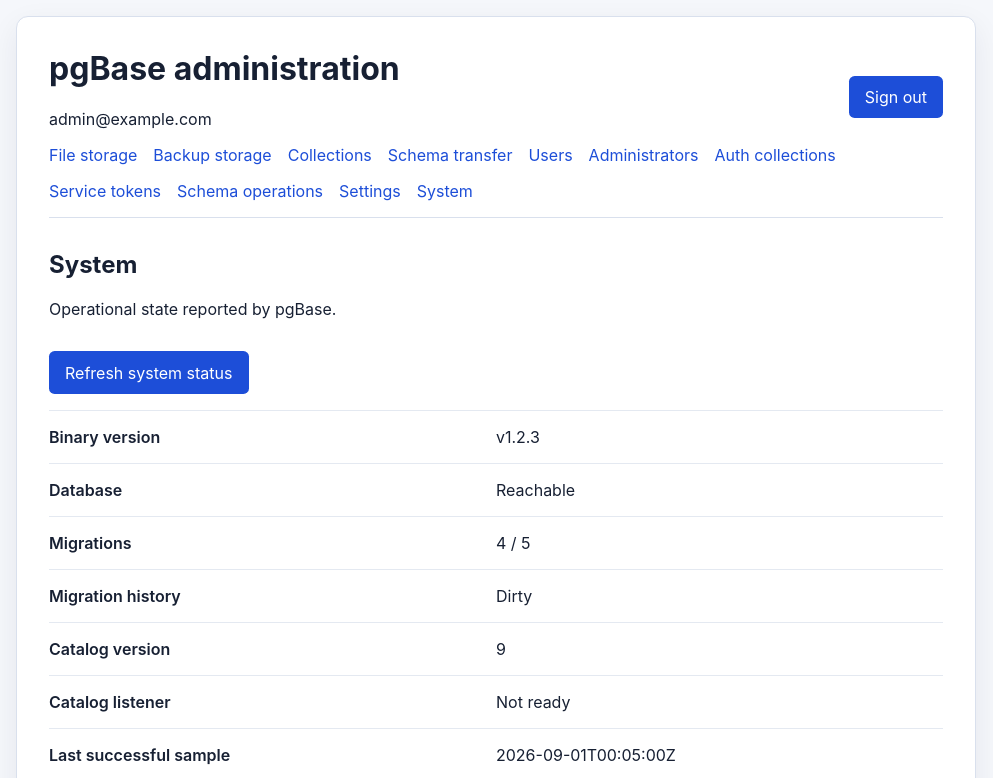
Test case: system page › refreshes an already loaded system view on request
The image size is (993, 778).
Expected: the text "v1.2.3" is shown, x1=496 y1=427 x2=540 y2=447
Click the button "Refresh system status": (149, 372) x1=49 y1=351 x2=248 y2=394
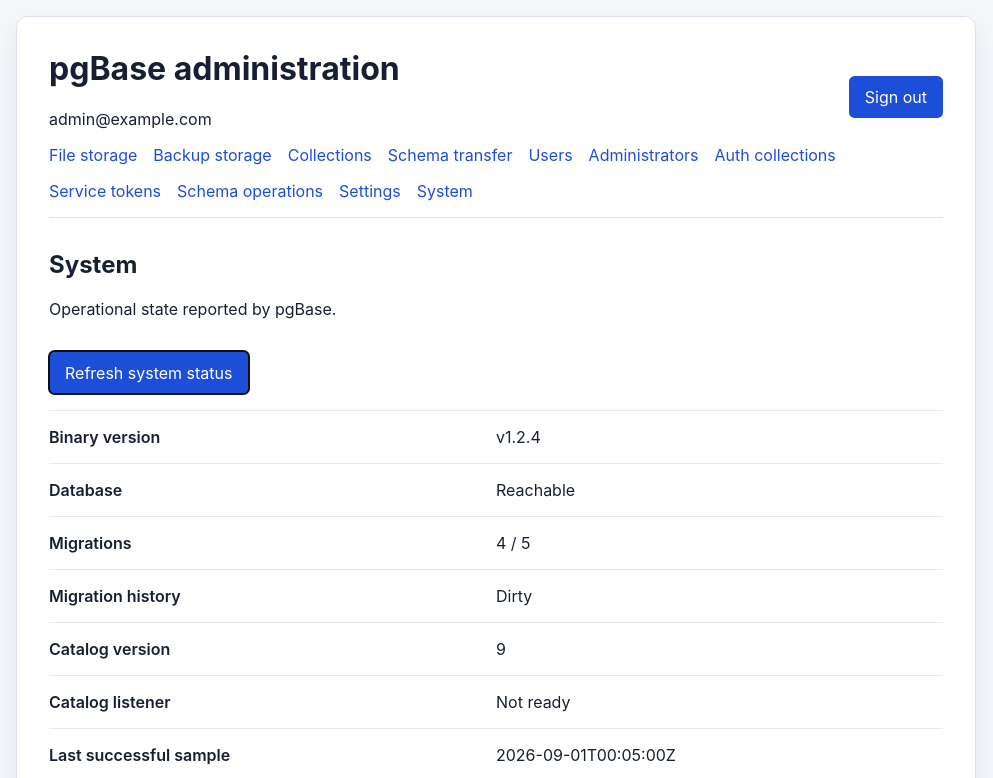
Expected: the text "v1.2.4" is shown, x1=496 y1=427 x2=541 y2=447
Expected: the text "v1.2.3" is gone
